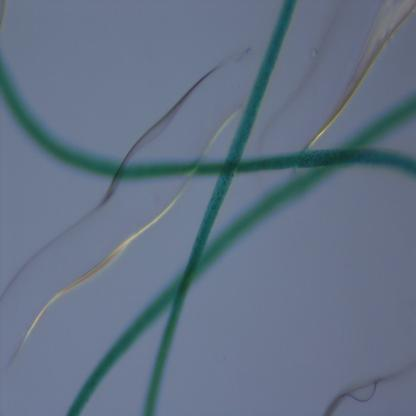Background material: (0, 178, 189, 342), (310, 0, 416, 138), (128, 49, 234, 157), (319, 362, 416, 414)
Microfibre: (64, 95, 416, 414), (142, 0, 297, 416), (0, 54, 416, 182)
